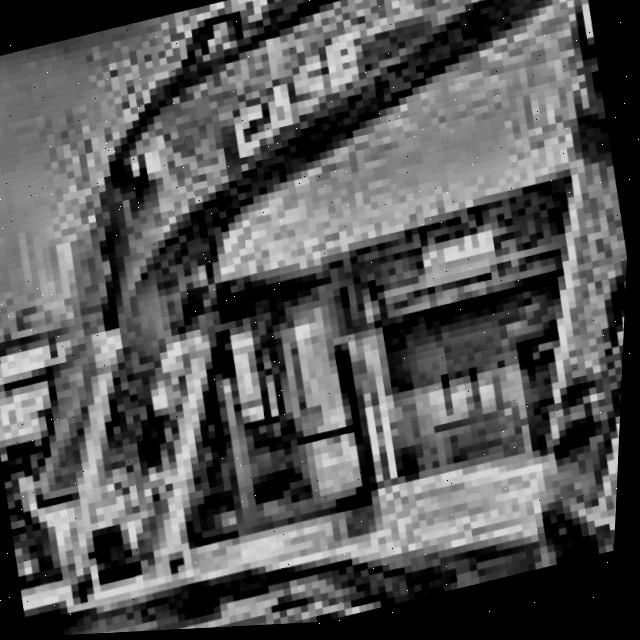excavator: (0, 203, 512, 640)
